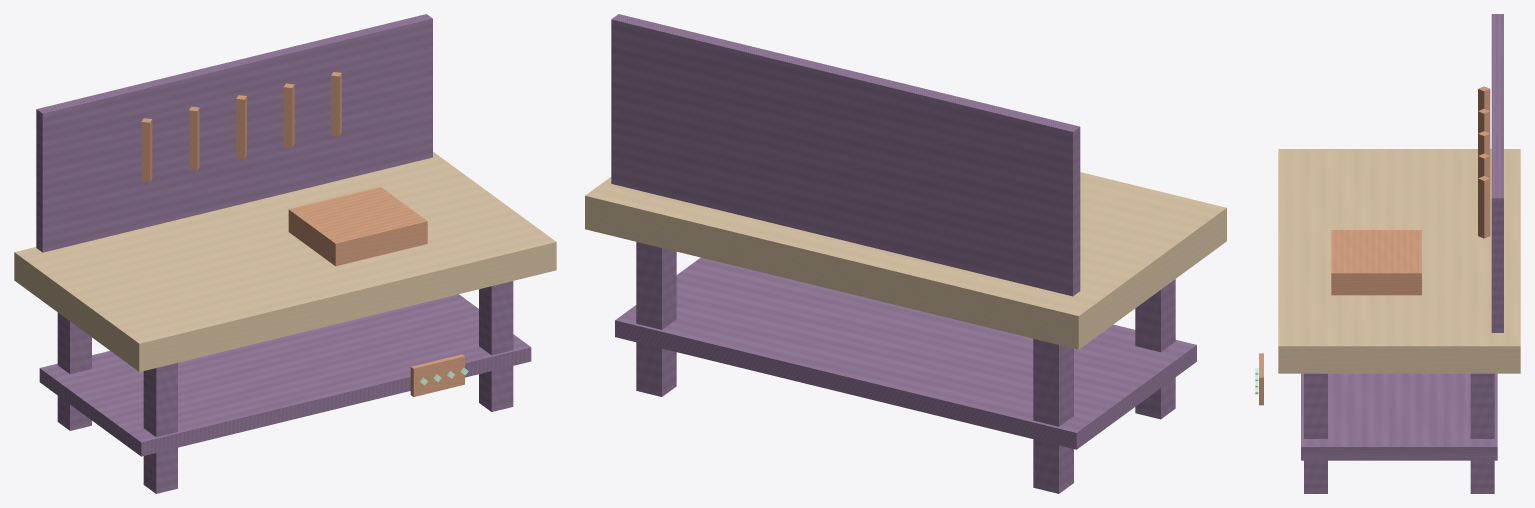
The model's file is atlas100-s087-a06.glb.
The picture shows the model from 3 angles, left to right: view 1: azimuth 30°, elevation 25°; view 2: azimuth 150°, elevation 25°; view 3: azimuth 270°, elevation 25°; orthographic projection. The views are drawn at different scales.
Parts seen in each view (by area): view 1: atlas100-s087-a06:part-004, atlas100-s087-a06:part-006, atlas100-s087-a06:part-005, atlas100-s087-a06:part-012, atlas100-s087-a06:part-003, atlas100-s087-a06:part-001, atlas100-s087-a06:part-000, atlas100-s087-a06:part-013, atlas100-s087-a06:part-007, atlas100-s087-a06:part-010, atlas100-s087-a06:part-008, atlas100-s087-a06:part-009 (+1 smaller); view 2: atlas100-s087-a06:part-006, atlas100-s087-a06:part-005, atlas100-s087-a06:part-004, atlas100-s087-a06:part-000, atlas100-s087-a06:part-002, atlas100-s087-a06:part-001; view 3: atlas100-s087-a06:part-004, atlas100-s087-a06:part-005, atlas100-s087-a06:part-012, atlas100-s087-a06:part-006, atlas100-s087-a06:part-002, atlas100-s087-a06:part-003, atlas100-s087-a06:part-011, atlas100-s087-a06:part-008, atlas100-s087-a06:part-007, atlas100-s087-a06:part-009, atlas100-s087-a06:part-010.
Boxes of the visible parts, box(x1,y1,x2,y2) form: atlas100-s087-a06:part-004: box(14, 152, 556, 371); atlas100-s087-a06:part-006: box(36, 14, 432, 252); atlas100-s087-a06:part-005: box(39, 294, 531, 456); atlas100-s087-a06:part-012: box(288, 187, 427, 266); atlas100-s087-a06:part-003: box(479, 281, 513, 411); atlas100-s087-a06:part-001: box(143, 363, 177, 493); atlas100-s087-a06:part-000: box(57, 312, 91, 430); atlas100-s087-a06:part-013: box(410, 354, 464, 396); atlas100-s087-a06:part-007: box(141, 118, 152, 182); atlas100-s087-a06:part-010: box(283, 83, 294, 147); atlas100-s087-a06:part-008: box(189, 106, 199, 170); atlas100-s087-a06:part-009: box(236, 95, 246, 159); atlas100-s087-a06:part-006: box(611, 14, 1080, 296); atlas100-s087-a06:part-005: box(615, 257, 1196, 449); atlas100-s087-a06:part-004: box(585, 172, 1226, 349); atlas100-s087-a06:part-000: box(1033, 338, 1073, 493); atlas100-s087-a06:part-002: box(636, 242, 676, 396); atlas100-s087-a06:part-001: box(1135, 279, 1175, 419); atlas100-s087-a06:part-004: box(1278, 149, 1520, 373); atlas100-s087-a06:part-005: box(1301, 373, 1497, 460); atlas100-s087-a06:part-012: box(1331, 230, 1421, 295); atlas100-s087-a06:part-006: box(1491, 14, 1503, 332); atlas100-s087-a06:part-002: box(1470, 373, 1494, 493); atlas100-s087-a06:part-003: box(1304, 373, 1327, 493); atlas100-s087-a06:part-011: box(1478, 176, 1490, 238); atlas100-s087-a06:part-008: box(1478, 108, 1490, 133); atlas100-s087-a06:part-007: box(1478, 86, 1490, 110); atlas100-s087-a06:part-009: box(1478, 131, 1490, 155); atlas100-s087-a06:part-010: box(1478, 153, 1490, 178).
Bounding box in the file's own units: 3.08 × 2.21 × 1.75.
4 materials, 4 textured.
